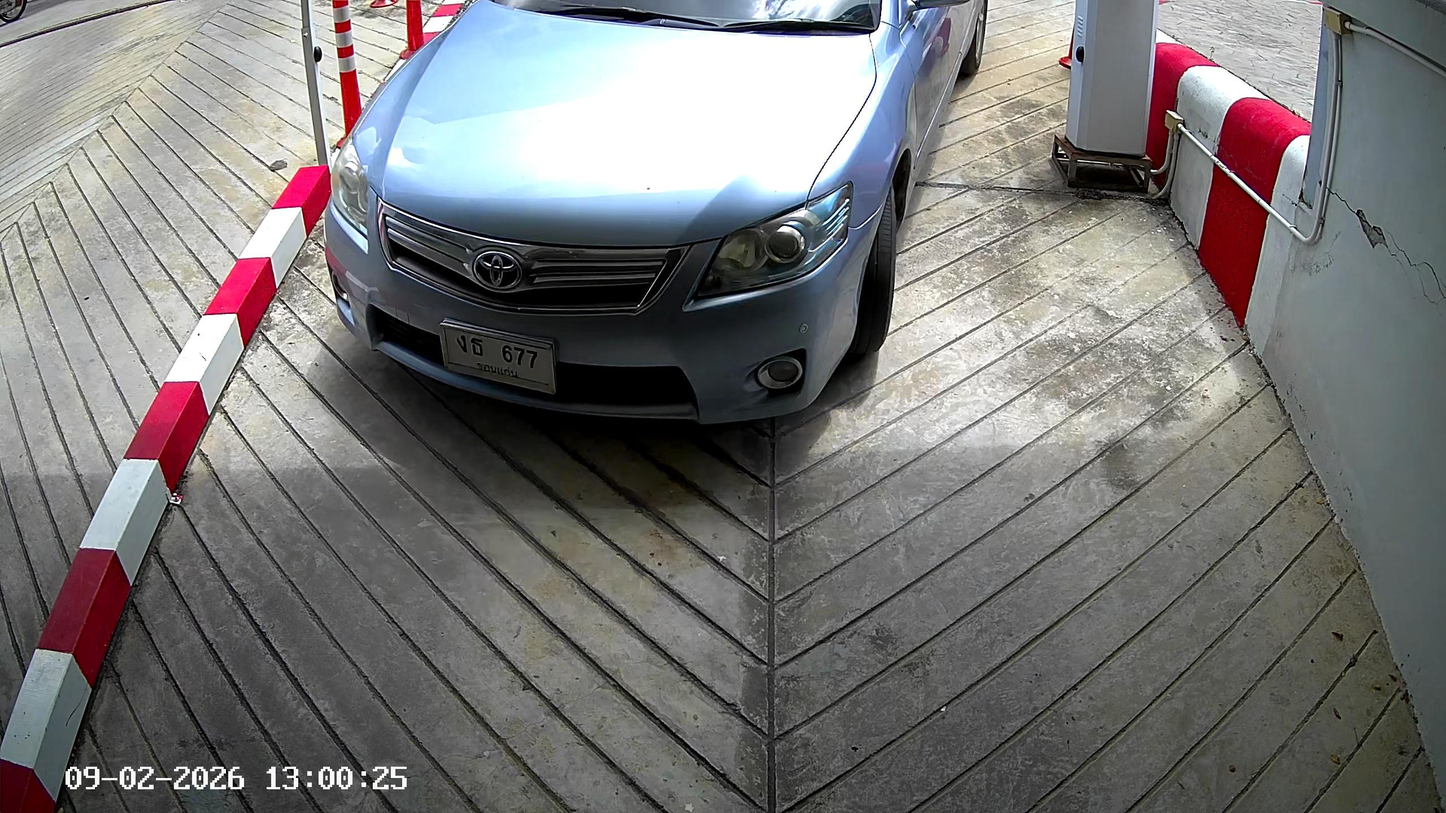car: (324, 5, 988, 432)
license-plate: (437, 317, 559, 400)
